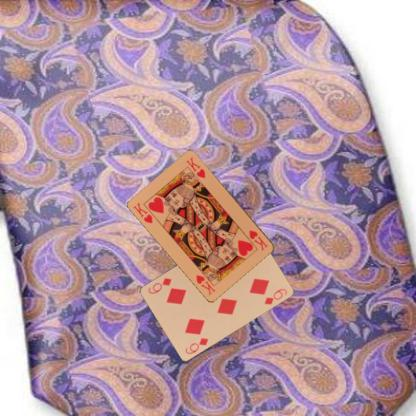6d: (182, 335, 210, 355)
Kh: (131, 200, 154, 225), (247, 228, 269, 252)
